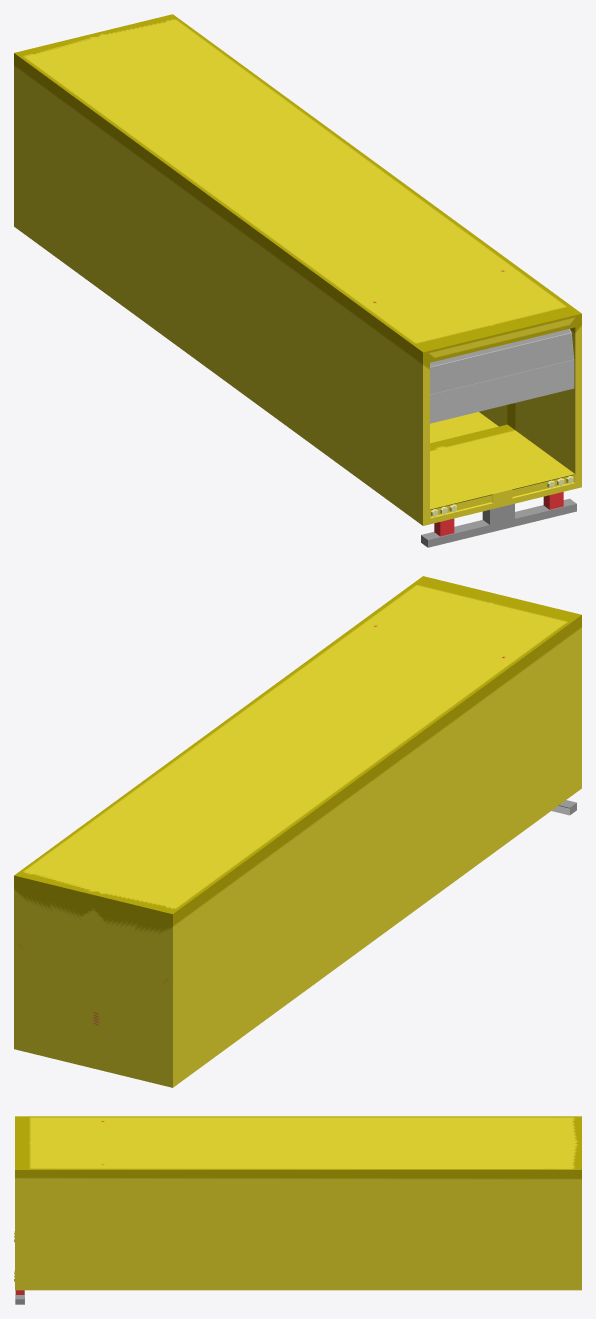
File: TESTtruck.fbx
The picture shows the model from 3 angles, top to bottom: view 1: azimuth 30°, elevation 25°; view 2: azimuth 150°, elevation 25°; view 3: azimuth 270°, elevation 25°; orthographic projection. The views are drawn at different scales.
Visible parts, largest first — view 1: Truck.001; view 2: Truck.001; view 3: Truck.001.
Part boxes in pixels (bbox=[...]): Truck.001: bbox=[14, 14, 581, 547]; Truck.001: bbox=[14, 576, 581, 1087]; Truck.001: bbox=[14, 1116, 581, 1304].
Bounding box in the file's own units: 36.98 × 43.75 × 165.
